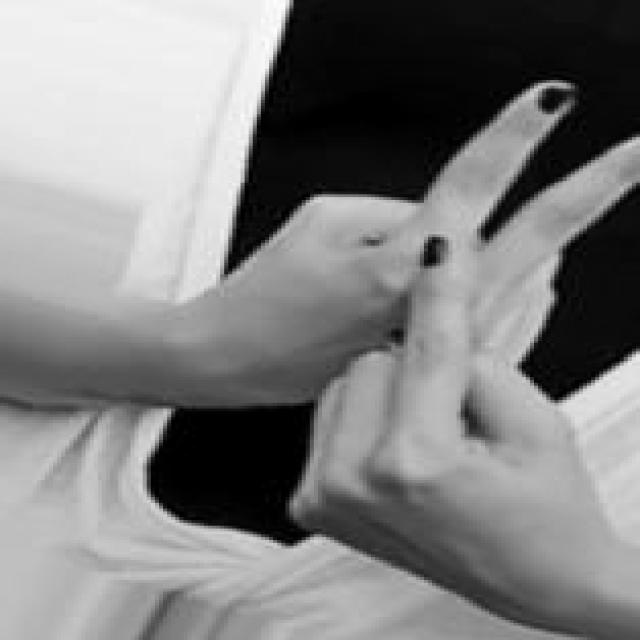Y: (204, 78, 640, 631)
